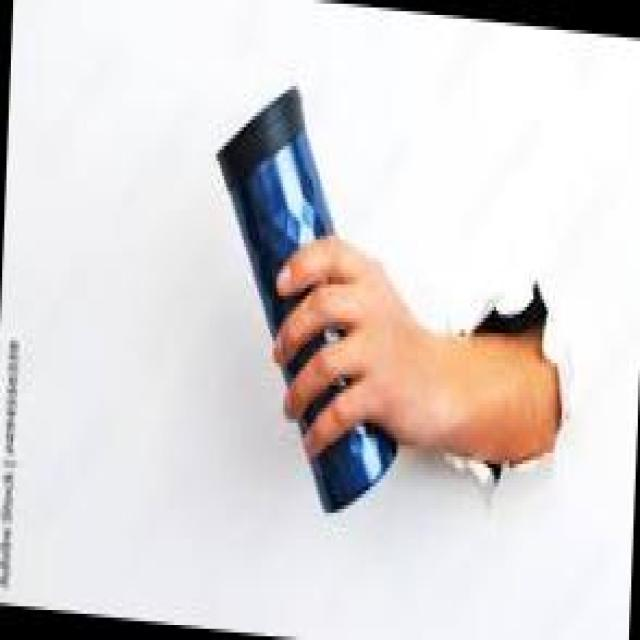bottle: (201, 73, 415, 522)
